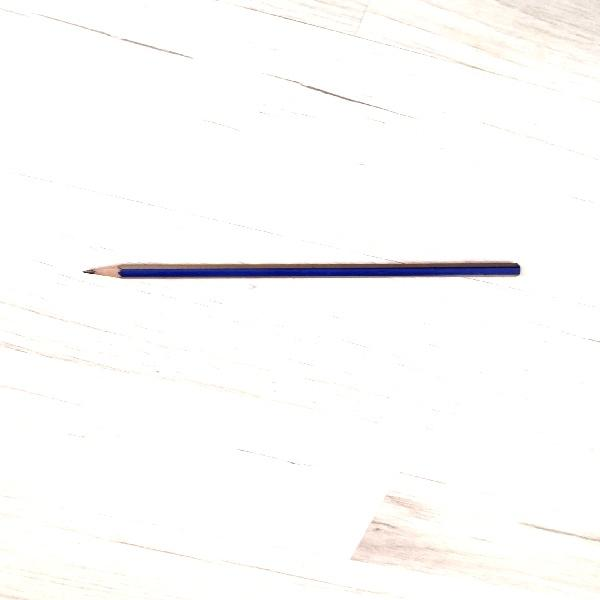pencil: (80, 262, 526, 282)
